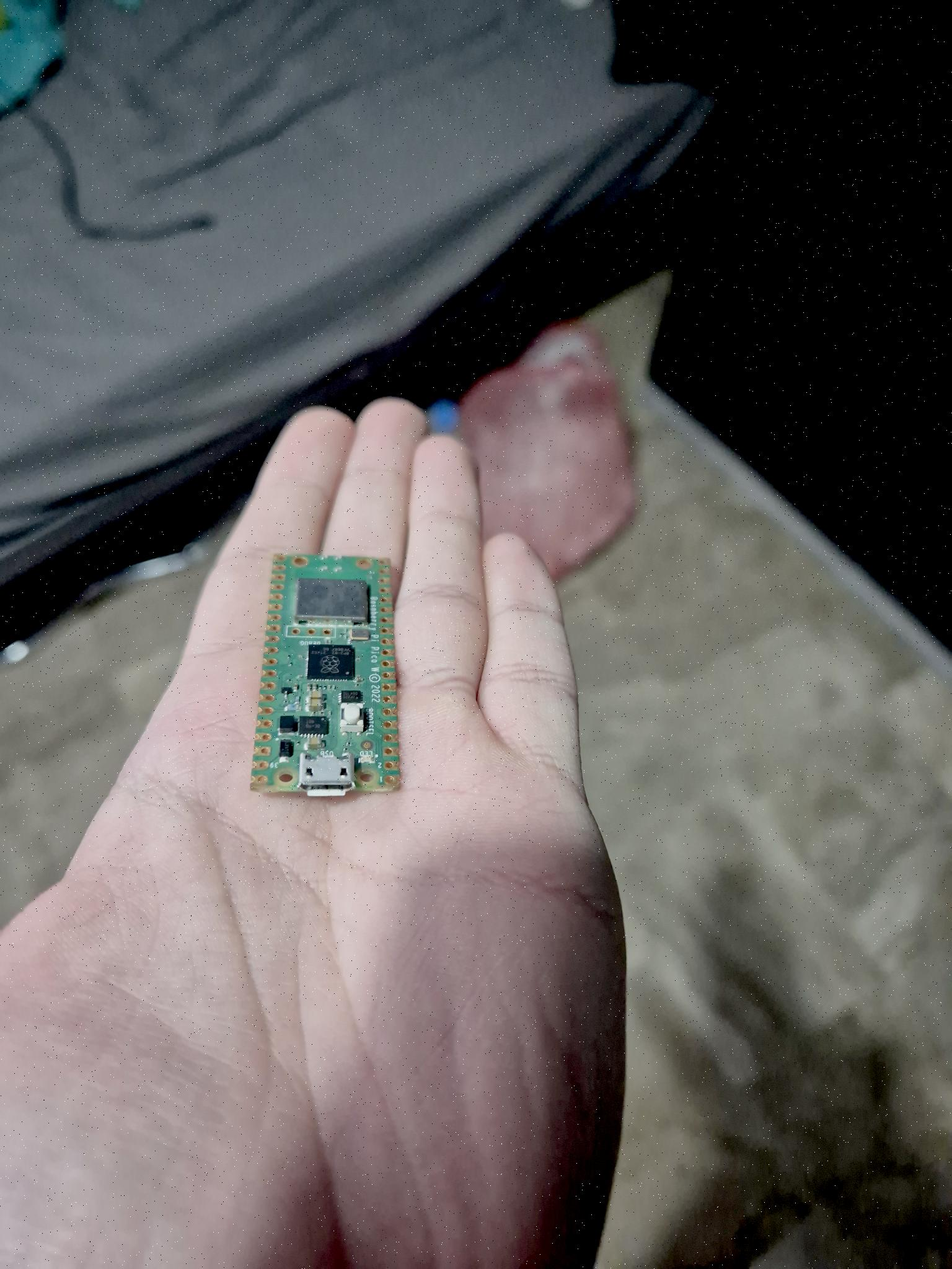raspberry-pi-pico-w: (252, 553, 400, 796)
